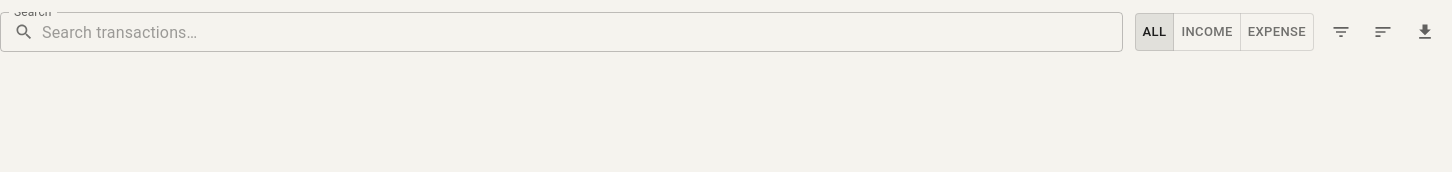
Test: FilterBar › opens export menu when download button clicked
The width and height of the screenshot is (1452, 172).
Click the button named "Export options" at coordinates (1425, 32), box [1410,17,1440,47]
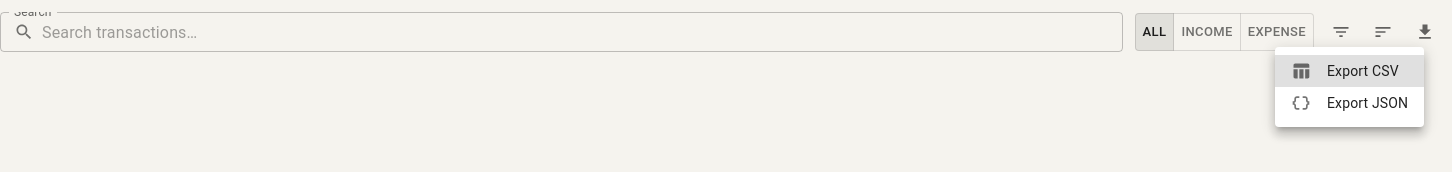
Expected: the text "Export CSV" is shown, [1327,61,1408,81]
Expected: the text "Export JSON" is shown, [1327,93,1408,113]
